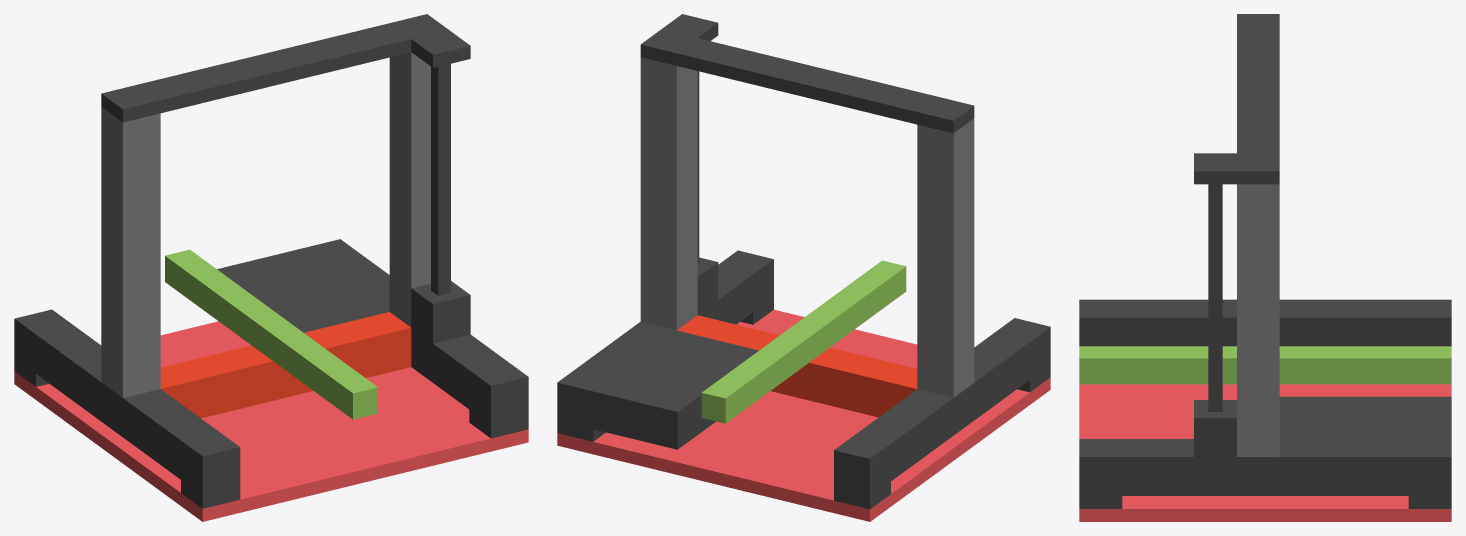
The model's file is printer1all.obj.
3 views of the same model, side by side, from view 1: azimuth 30°, elevation 25°; view 2: azimuth 150°, elevation 25°; view 3: azimuth 270°, elevation 25° (orthographic). The views are drawn at different scales.
Size of the model in its own units: 2.6 by 2.7 by 2.6.
